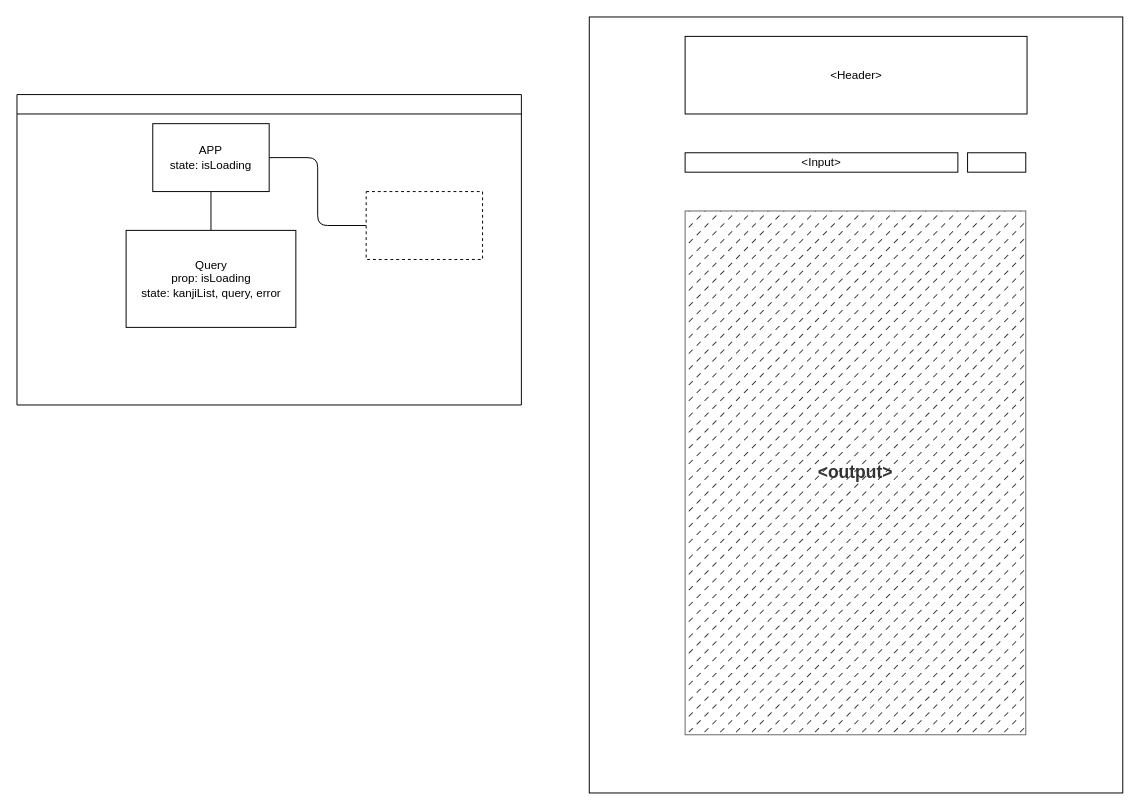
Image size: 1140x810. Some labels were removed from this diagram. Here are the shapes that lost their labels. From the top down, the box of each, then its label:
(967, 152, 1026, 172): <button>
(365, 191, 483, 259): ?flashcards?
(16, 94, 521, 405): Components
